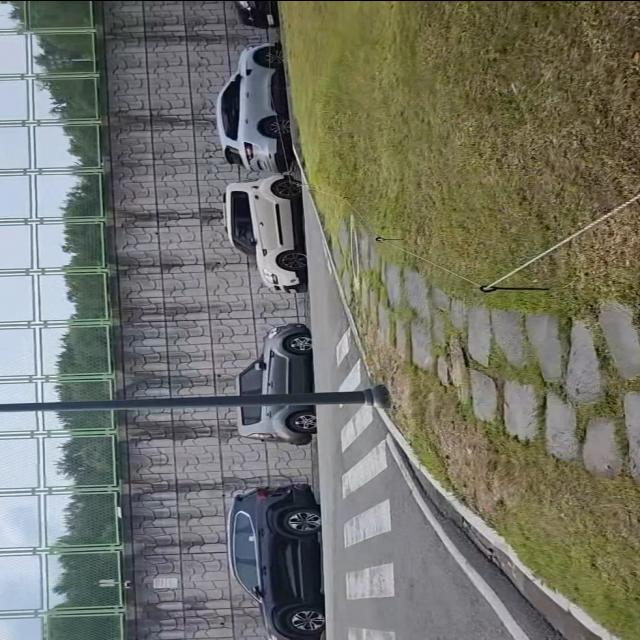obstacle: (0, 382, 390, 414), (216, 171, 310, 299)
road: (305, 185, 609, 640)
